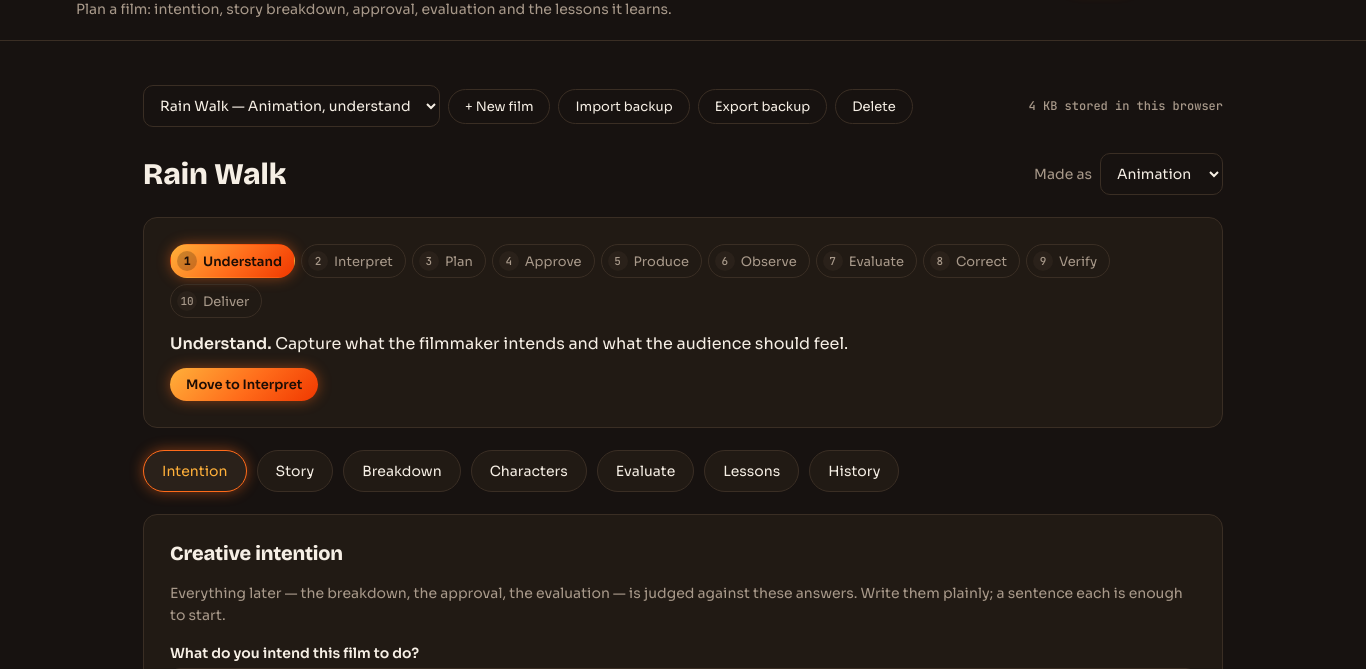
Test: film workspace journey › creates a project, writes intention, analyses a story, approves and persists
Earlier steps of the test are not shown.
Later steps or results of the test are not shown.
(page scrolled)
Click the button "Move to Interpret" at (244, 384), box 170,368 -> 318,401
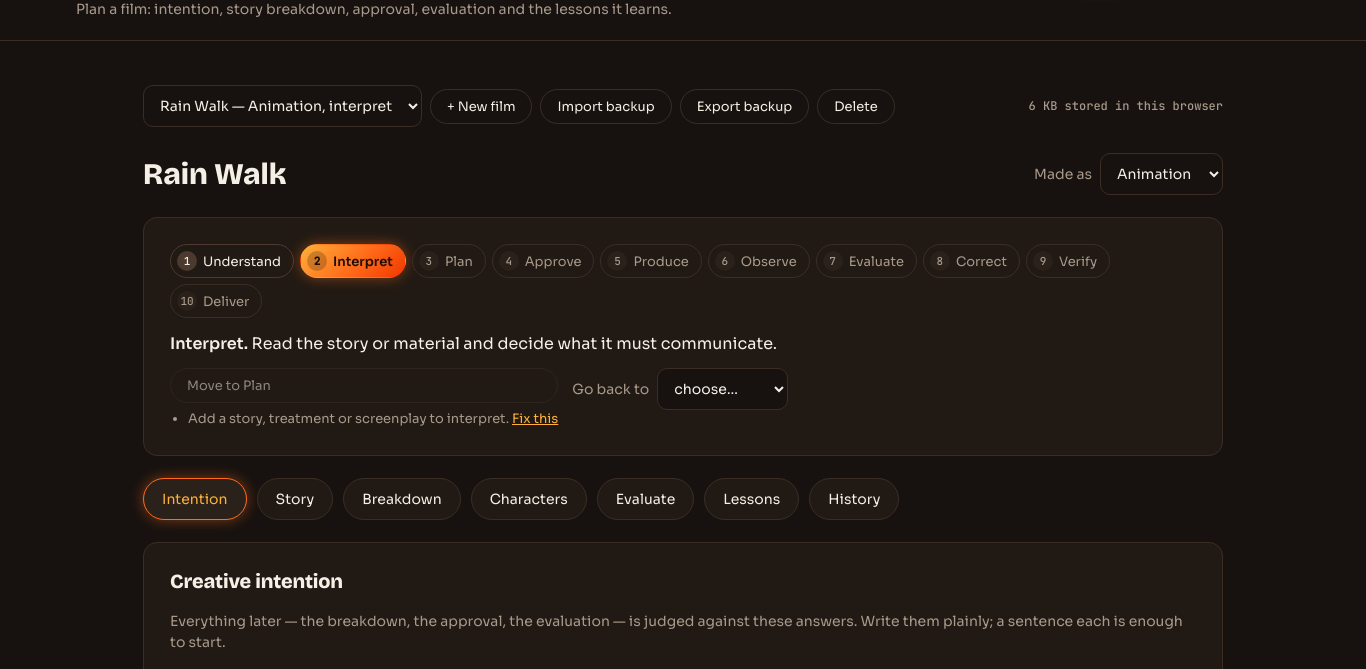
Click the tab "Story" at (295, 498), box 256,478 -> 333,520
(page scrolled)
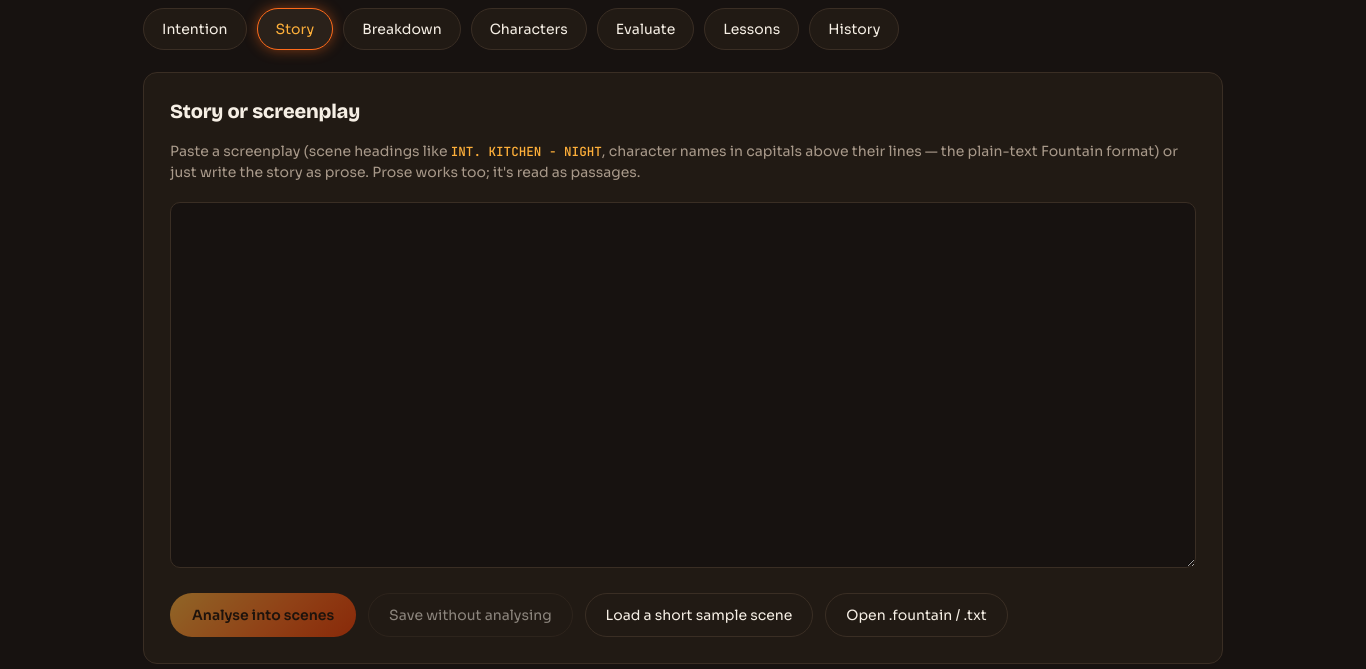
Click the button "Load a short sample scene" at (699, 615), box 585,593 -> 813,637
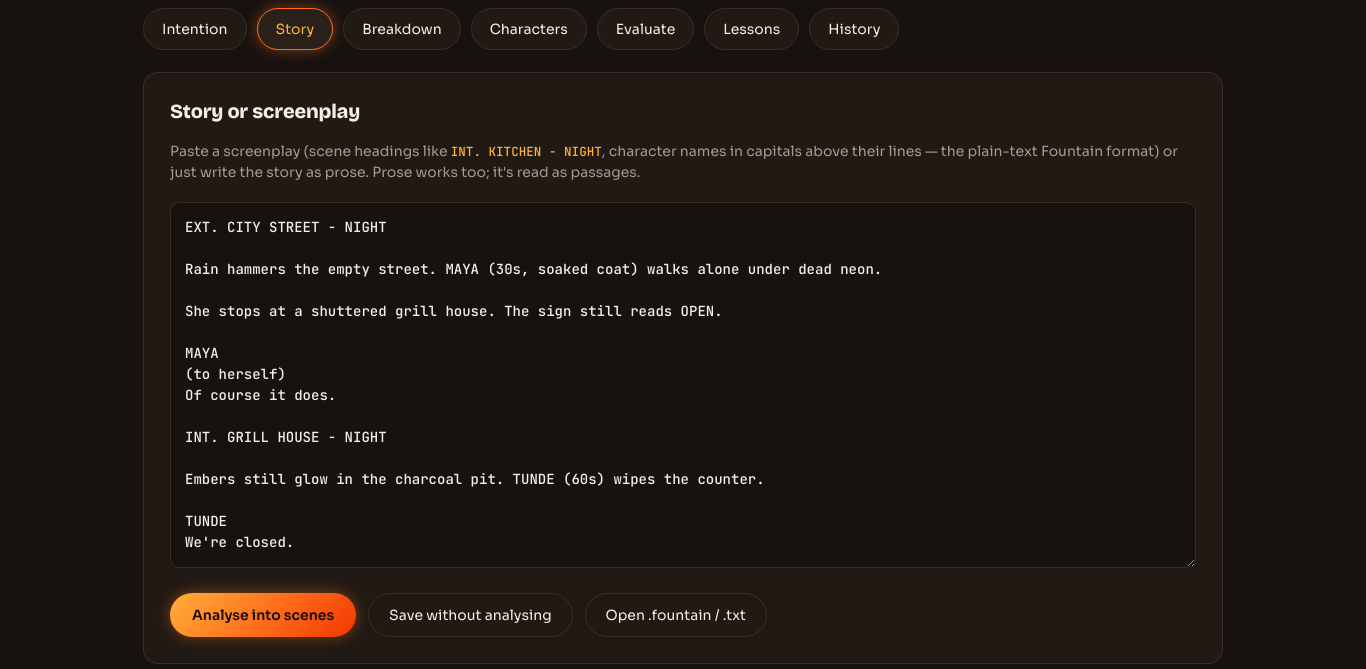
Click the button "Analyse into scenes" at (263, 615), box 170,593 -> 356,637
(page scrolled)
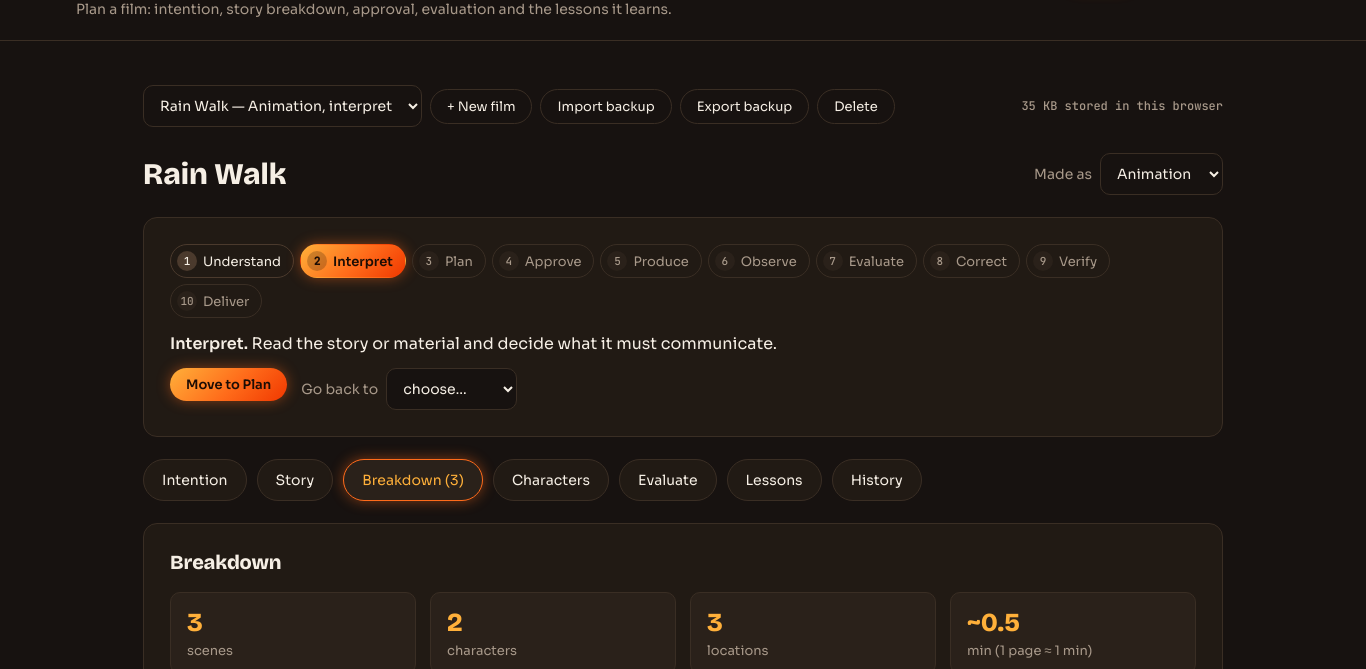
Click the button "Move to Plan" at (229, 384), box 170,368 -> 287,401
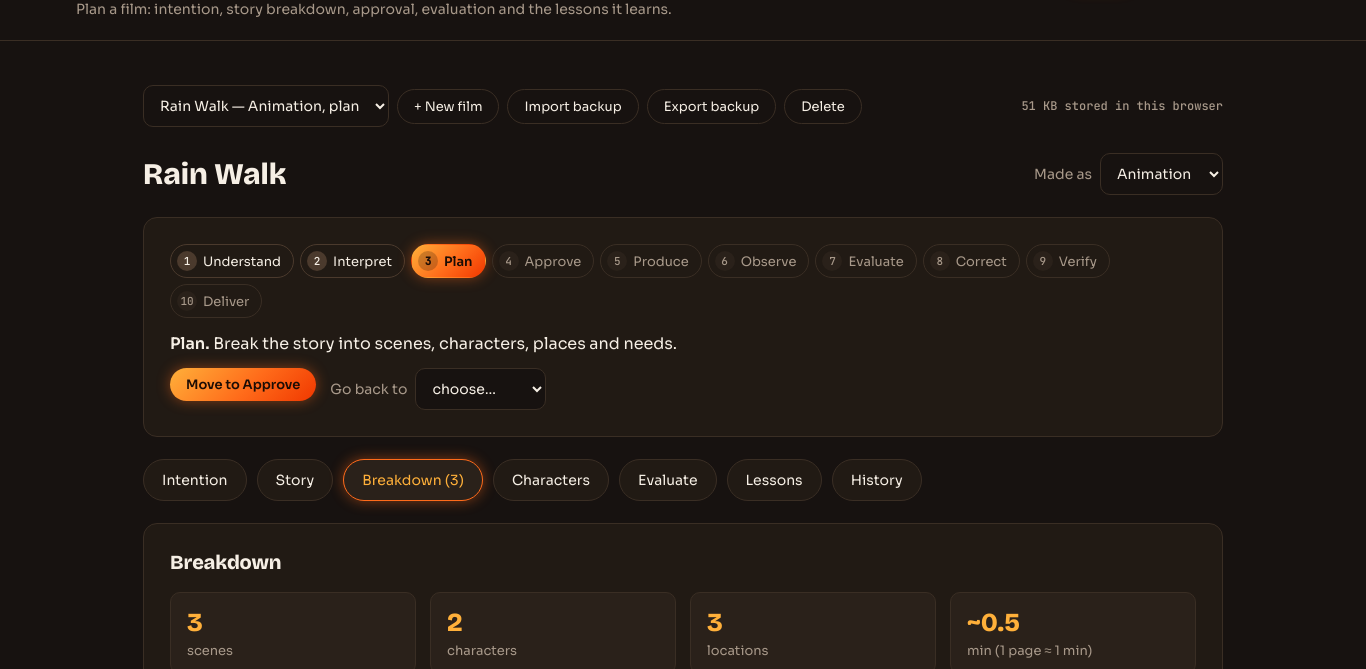
Click the button "Move to Approve" at (243, 384), box 170,368 -> 316,401
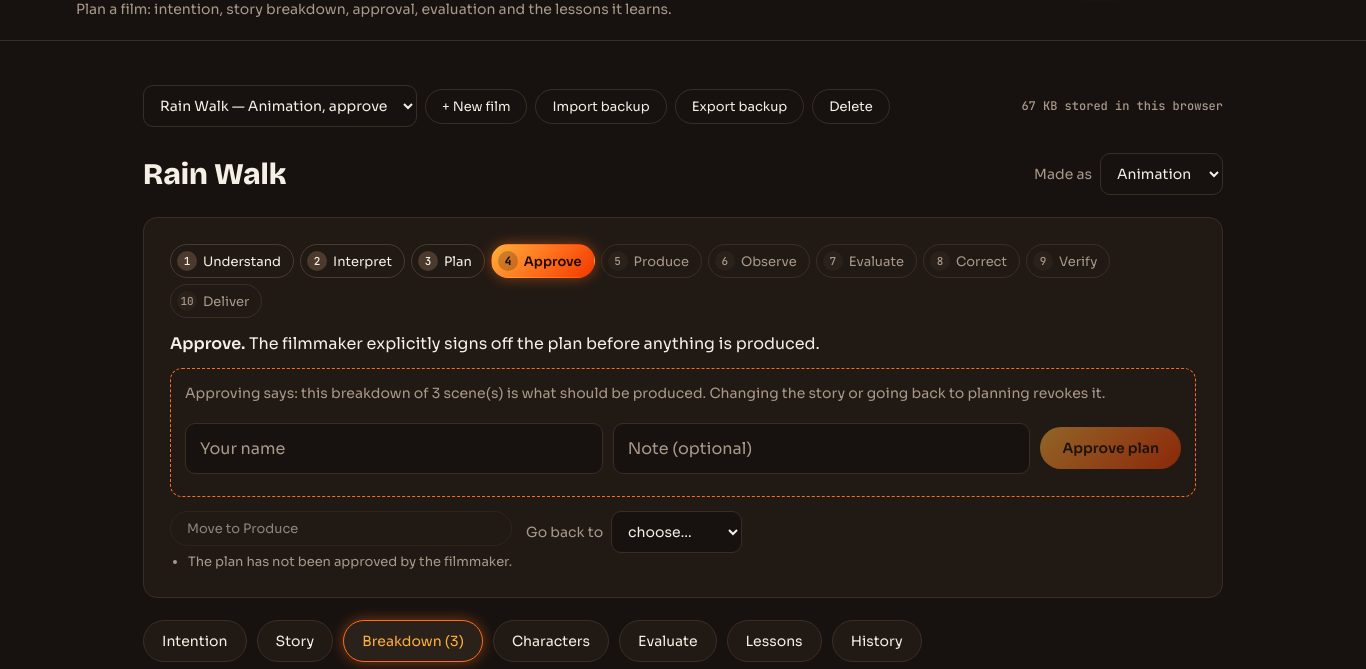
Expected: the button "Move to Produce" is disabled, 170,511 -> 512,546
